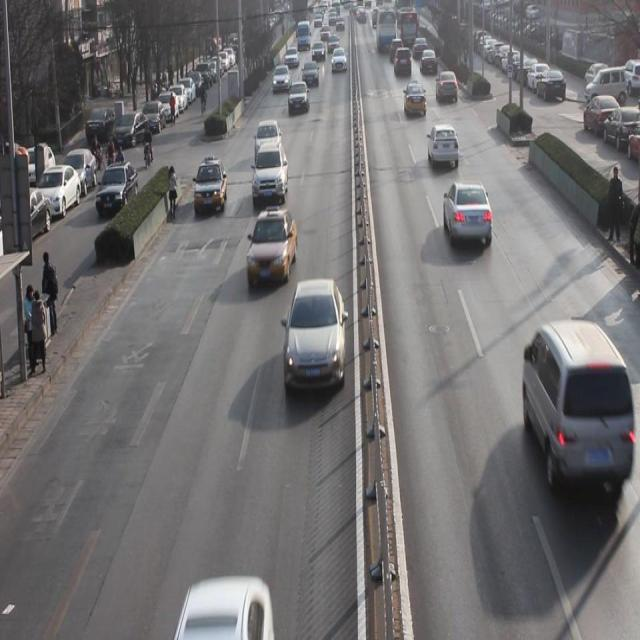car: (283, 277, 348, 395), (177, 583, 275, 640), (249, 204, 296, 290), (444, 180, 496, 248), (252, 140, 288, 205), (195, 157, 229, 216), (428, 124, 461, 168), (254, 116, 280, 158), (404, 83, 427, 118), (436, 70, 458, 104), (288, 79, 307, 115)
truck: (521, 319, 631, 488)
